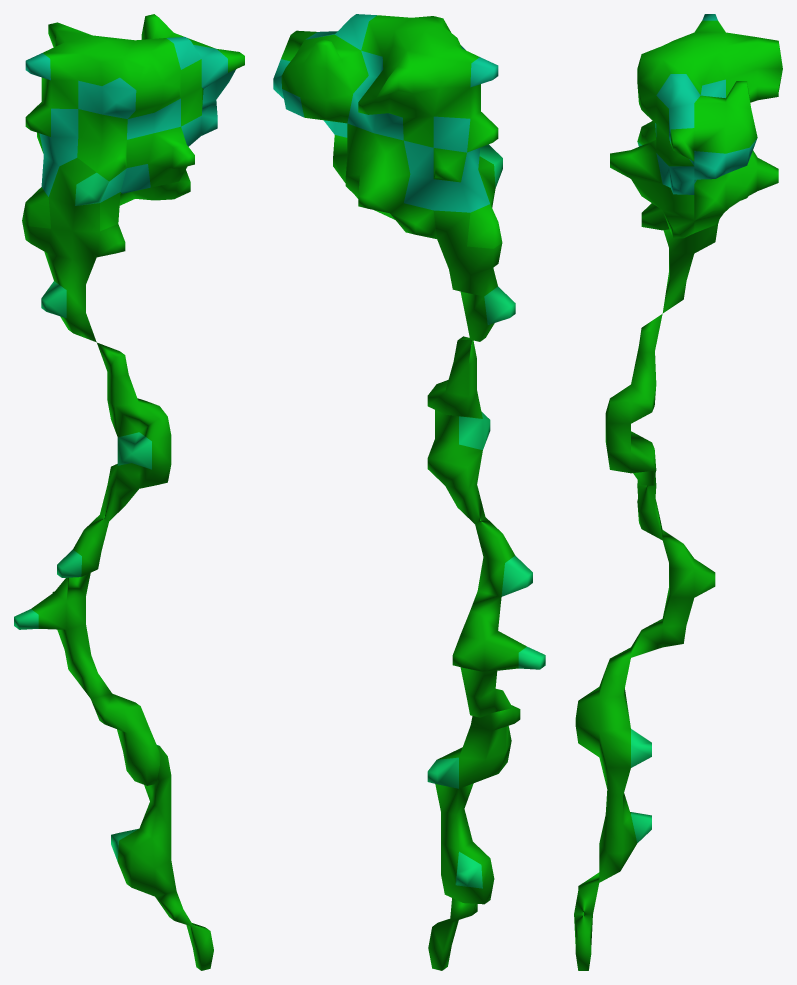
3 renders of one model, left to right at view 1: azimuth 30°, elevation 25°; view 2: azimuth 150°, elevation 25°; view 3: azimuth 270°, elevation 25°, orthographic. The views are drawn at different scales.
Size of the model in its own units: 0.4233 by 1.58 by 0.33.
